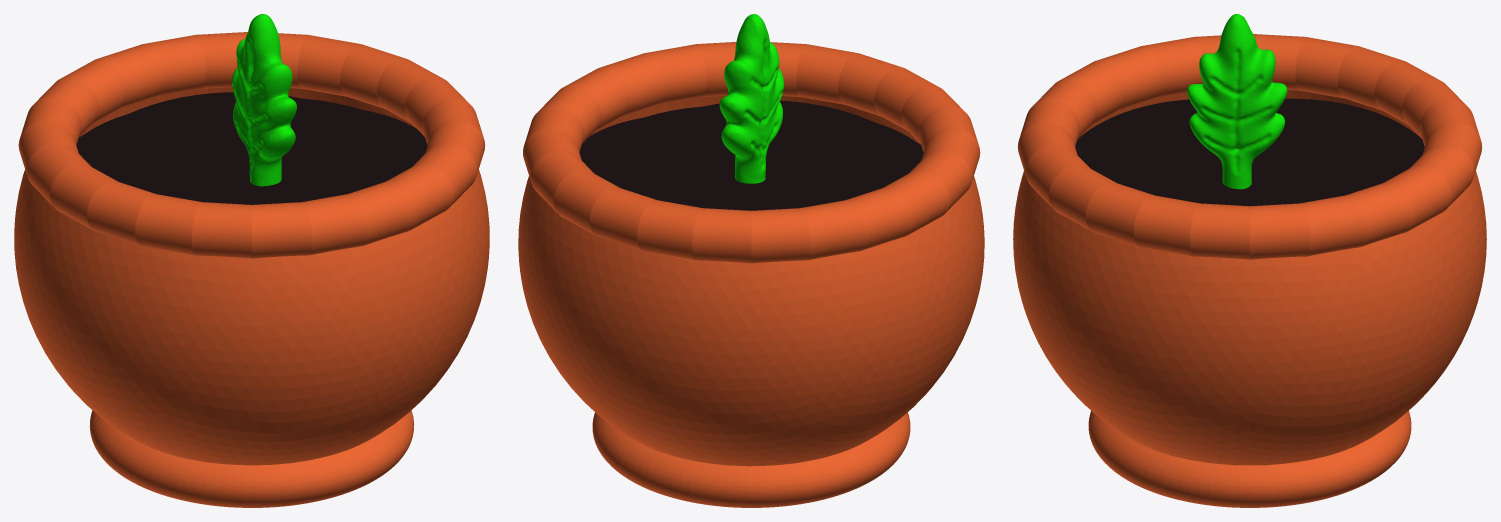
File: pot_with_leaf.fbx
The picture shows the model from 3 angles, left to right: view 1: azimuth 30°, elevation 25°; view 2: azimuth 150°, elevation 25°; view 3: azimuth 270°, elevation 25°; orthographic projection.
Parts seen in each view (by area): view 1: Tomato_single_leaf; view 2: Tomato_single_leaf; view 3: Tomato_single_leaf.
Boxes of the visible parts, box(x1,y1,x2,y2) form: Tomato_single_leaf: box(14, 14, 489, 507); Tomato_single_leaf: box(518, 14, 984, 507); Tomato_single_leaf: box(1013, 14, 1486, 507).
Size of the model in its own units: 3304 by 3346 by 3304.
